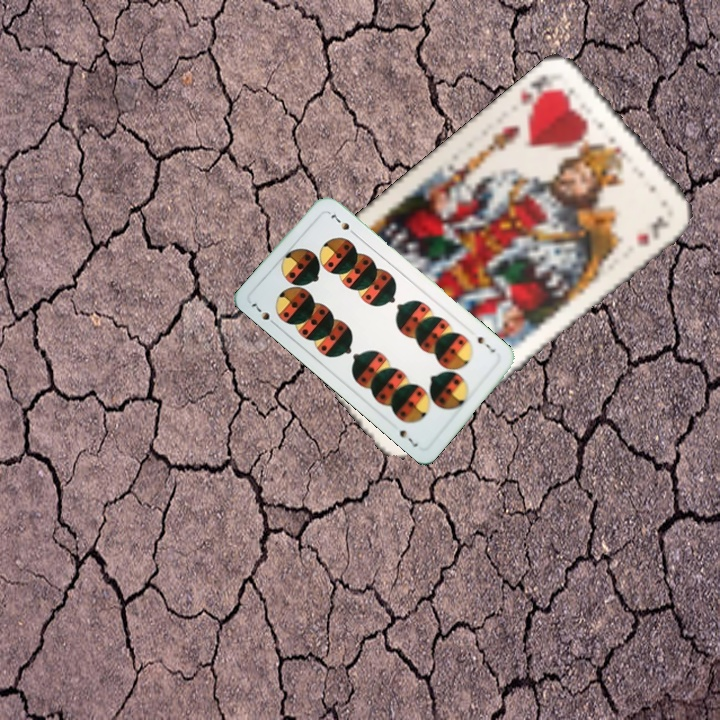HK: (515, 69, 560, 117)
S7: (247, 298, 280, 329), (471, 331, 498, 355)
